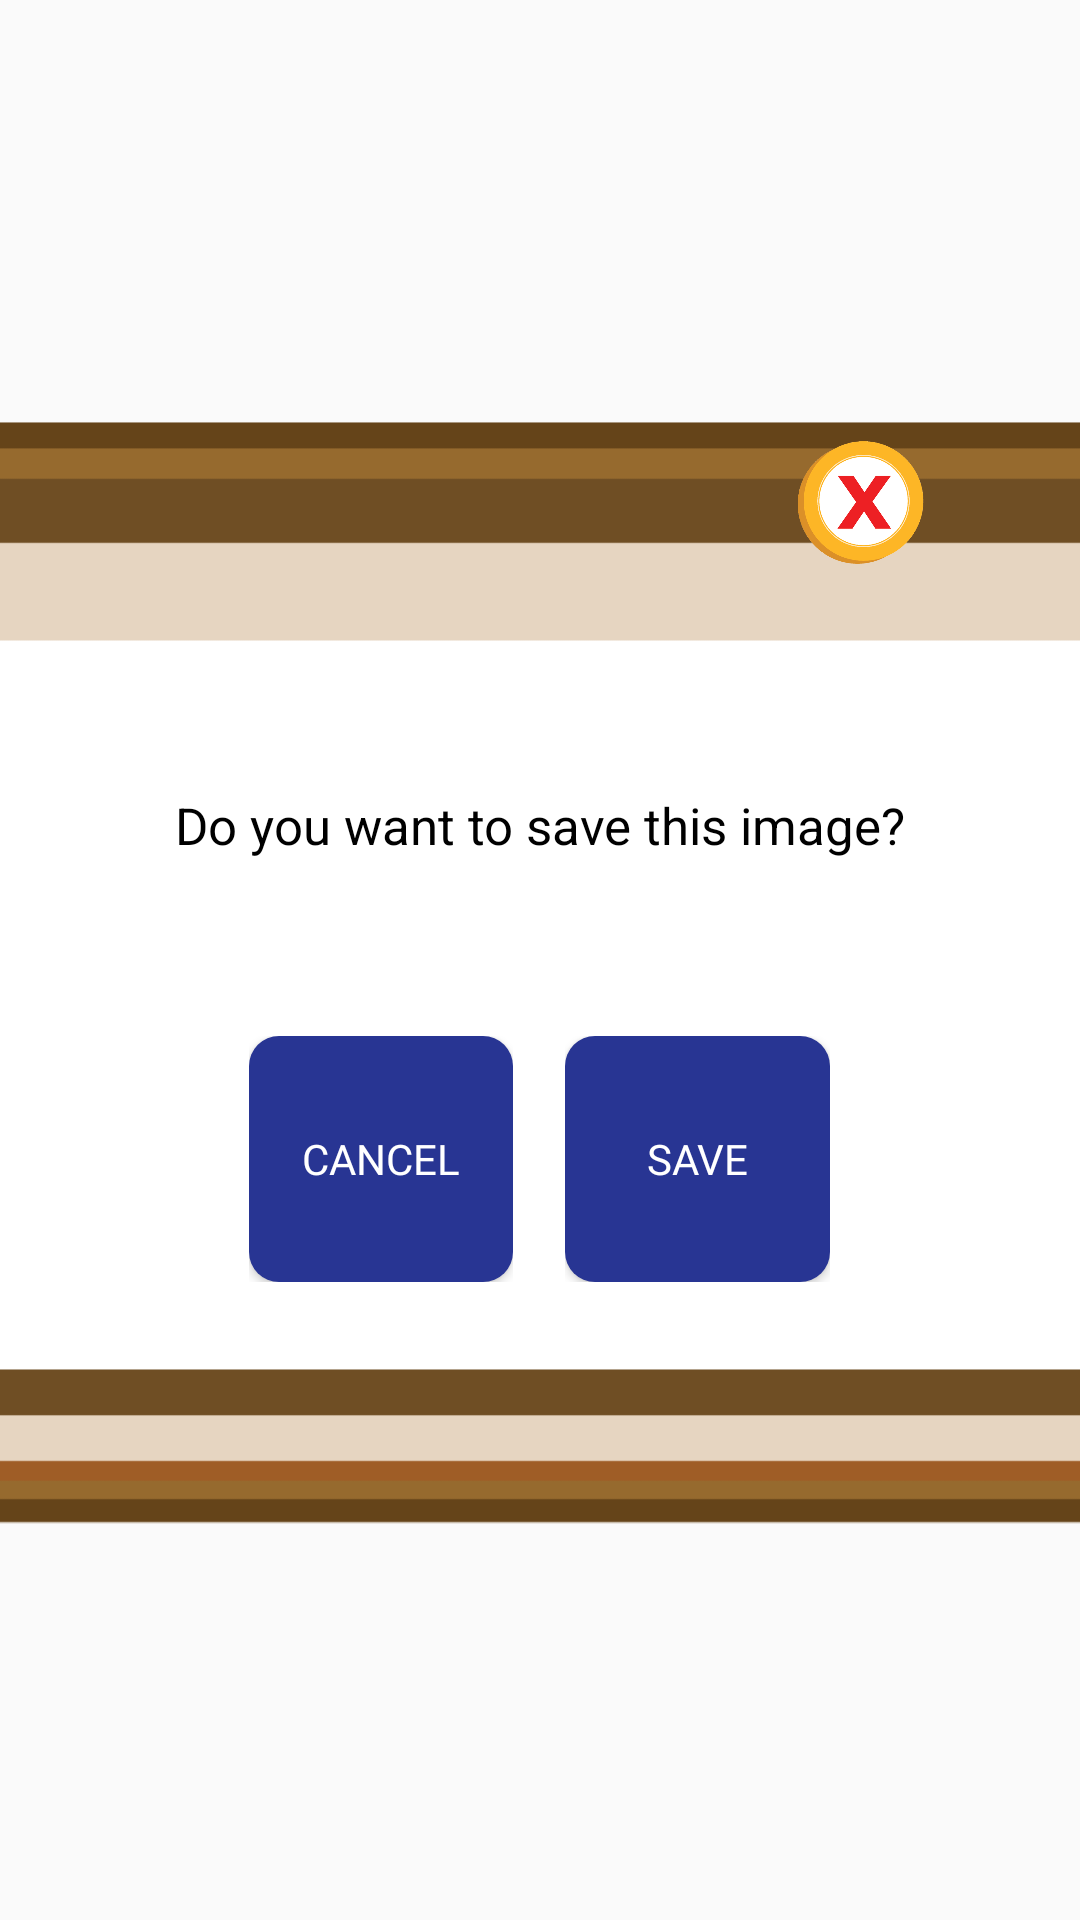

Icon click points for this 1080px x 1920px phone screenshot, format (x=x, y=y):
canclebtn: (x=861, y=501)
